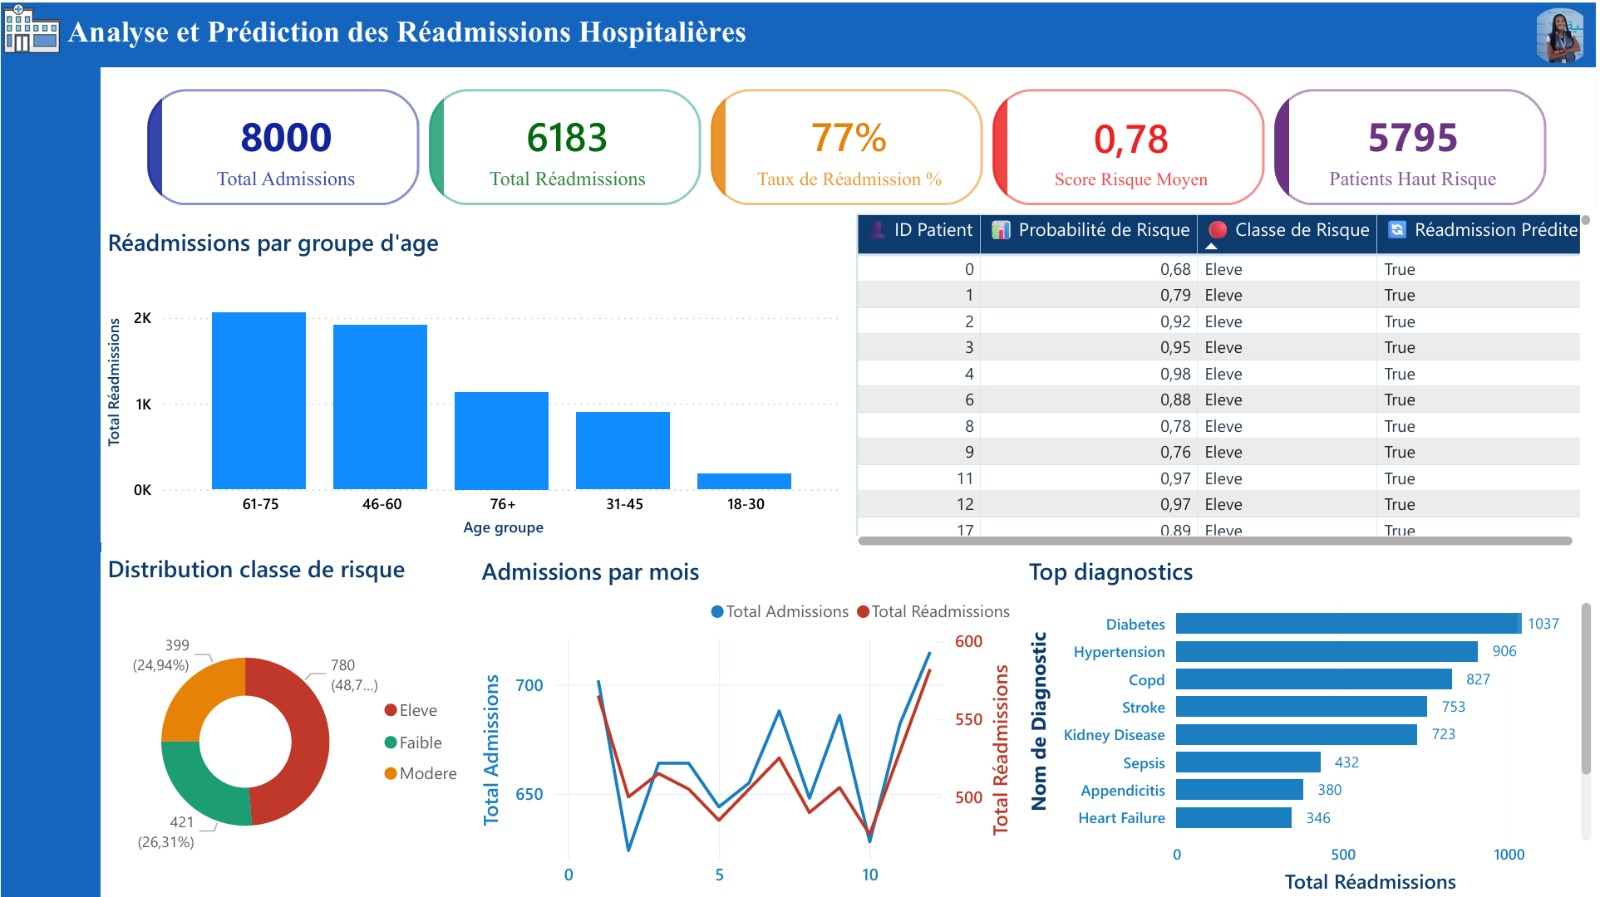

The page's visual inventory and layout, read from the dashboard file:
{"tool":"powerbi","page":{"name":"Vue générale","canvas":[1280,720],"ordinal":0},"visuals":[{"type":"shape","box":[0,52.1,80.4,667.7],"z":0},{"type":"textbox","box":[0,0,1280.3,52.3],"z":1000},{"type":"cardVisual","fields":{"Data":["Mesures.Total Admissions","Mesures.Total Réadmissions","Mesures.Taux de Réadmission %","Mesures.Score Risque Moyen","Mesures.Patients Haut Risque"]},"box":[80.4,52.1,1199.6,126.8],"z":2000},{"type":"clusteredColumnChart","title":"Réadmissions par groupe d''age","fields":{"Category":["public dim_patient.age_group"],"Y":["Mesures.Total Réadmissions"]},"box":[80.4,178.8,599.8,254.6],"z":4000},{"type":"image","box":[1226,0,49.3,52.3],"z":6000},{"type":"image","box":[0,0,48.3,41.2],"z":7000},{"type":"clusteredBarChart","title":"Top diagnostics","fields":{"Category":["public dim_diagnosis.diagnosis_name"],"Y":["Mesures.Total Réadmissions"]},"box":[819.4,442.5,460.6,276.1],"z":8000},{"type":"lineChart","title":"Admissions par mois","fields":{"Category":["public dim_date.month"],"Y":["Mesures.Total Admissions"],"Y2":["Mesures.Total Réadmissions"]},"box":[380.3,442.5,439.1,276.1],"z":9000},{"type":"donutChart","title":"Distribution classe de risque ","fields":{"Category":["public lstm_predictions.risk_class"],"Y":["CountNonNull(public lstm_predictions.id)"]},"box":[80.4,441.4,299.9,277.3],"z":12000},{"type":"tableEx","fields":{"Values":["public lstm_predictions.patient_sk","public lstm_predictions.risk_probability","public lstm_predictions.risk_class","public lstm_predictions.predicted_readmit"]},"box":[680.2,164.1,599.8,277.3],"z":13000}]}

Visuals, with their boxes in screenshot pixels (x1, y1, x2, y2), scaled from the page's 1280x720 canvas onto the 1600x897 screenshot:
shape: left=0, top=65, right=100, bottom=896
textbox: left=0, top=0, right=1599, bottom=65
cardVisual - Mesures.Total Admissions x Mesures.Total Réadmissions: left=100, top=65, right=1599, bottom=223
"Réadmissions par groupe d''age" clusteredColumnChart: left=100, top=223, right=850, bottom=540
image: left=1532, top=0, right=1594, bottom=65
image: left=0, top=0, right=60, bottom=51
"Top diagnostics" clusteredBarChart: left=1024, top=551, right=1599, bottom=895
"Admissions par mois" lineChart: left=475, top=551, right=1024, bottom=895
"Distribution classe de risque " donutChart: left=100, top=550, right=475, bottom=895
tableEx - public lstm_predictions.patient_sk x public lstm_predictions.risk_probability: left=850, top=204, right=1599, bottom=550
